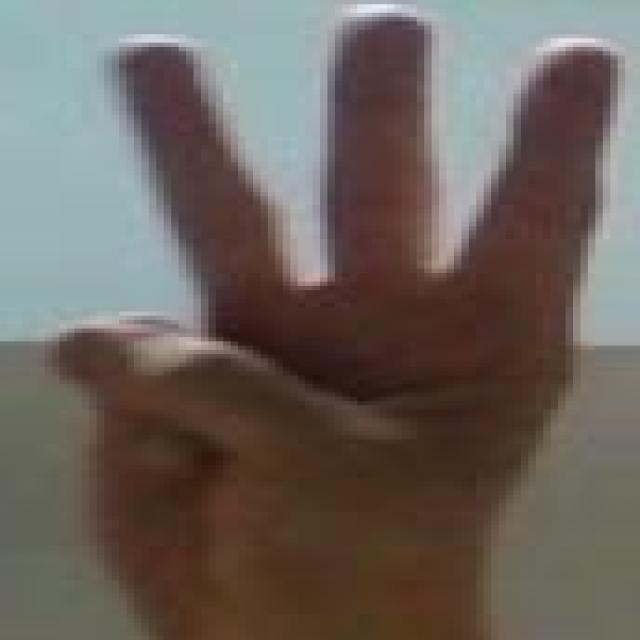W: (0, 7, 633, 573)
